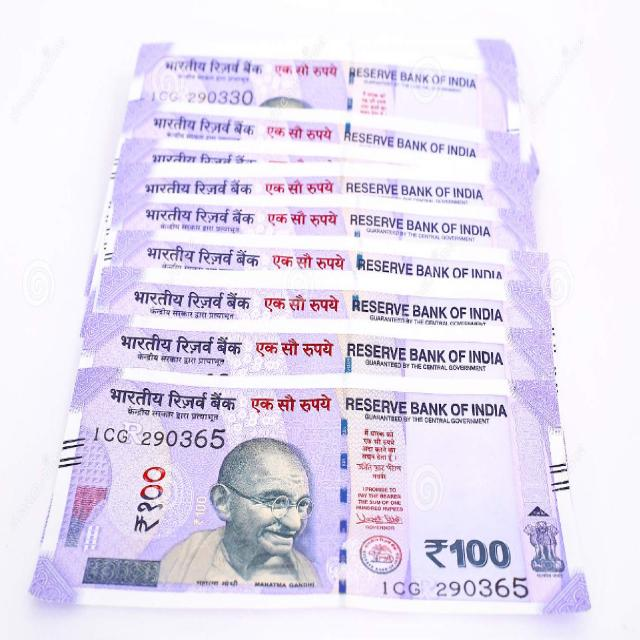100IndianRupees: (25, 386, 591, 614), (246, 386, 583, 621), (81, 371, 352, 607)
